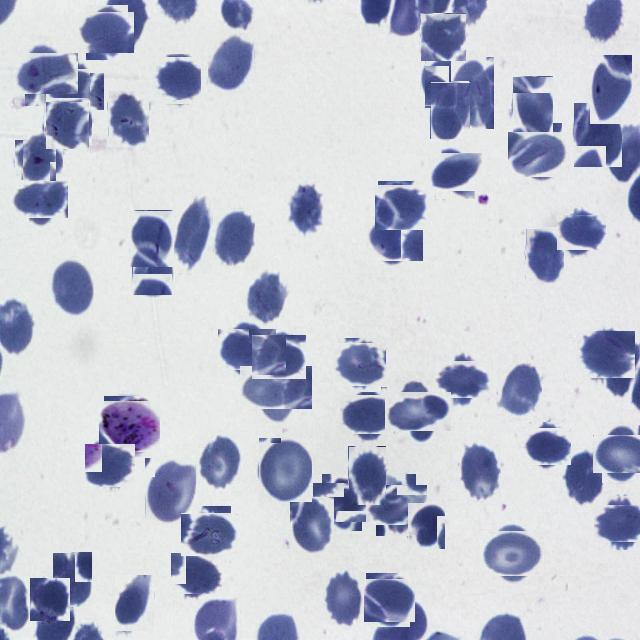difficult: (102, 398, 158, 455)
red blood cell: (258, 437, 312, 502), (145, 458, 196, 524), (247, 358, 304, 416), (573, 102, 622, 167), (452, 57, 496, 129), (486, 526, 540, 581), (174, 196, 212, 273), (512, 127, 566, 181), (19, 46, 73, 100), (590, 55, 632, 124), (208, 33, 254, 93), (392, 385, 444, 438), (458, 440, 501, 504), (580, 328, 632, 380), (368, 213, 421, 264), (198, 432, 243, 491), (128, 210, 174, 267), (512, 76, 553, 139), (50, 258, 94, 316), (184, 509, 234, 560), (371, 480, 422, 530), (290, 497, 334, 554), (498, 363, 542, 420), (376, 182, 426, 232), (222, 324, 272, 374), (50, 64, 100, 114), (254, 333, 304, 382), (324, 567, 364, 628), (213, 208, 255, 266), (336, 340, 384, 390), (82, 8, 132, 56), (564, 449, 606, 506), (108, 90, 150, 147), (245, 270, 287, 326), (363, 576, 412, 624), (430, 82, 470, 140), (318, 478, 366, 526), (344, 391, 392, 439), (15, 175, 63, 223), (422, 58, 470, 106), (348, 446, 386, 505), (52, 552, 92, 608), (439, 356, 486, 403), (420, 13, 466, 61), (525, 228, 564, 284), (115, 575, 154, 631), (153, 56, 200, 102), (173, 550, 220, 596), (87, 442, 134, 488), (432, 149, 478, 195), (286, 181, 324, 236), (45, 103, 91, 148), (597, 430, 640, 478), (132, 245, 172, 295), (598, 499, 640, 546), (524, 425, 568, 469), (560, 212, 603, 254), (407, 502, 445, 549), (18, 136, 59, 178), (30, 578, 70, 621)
